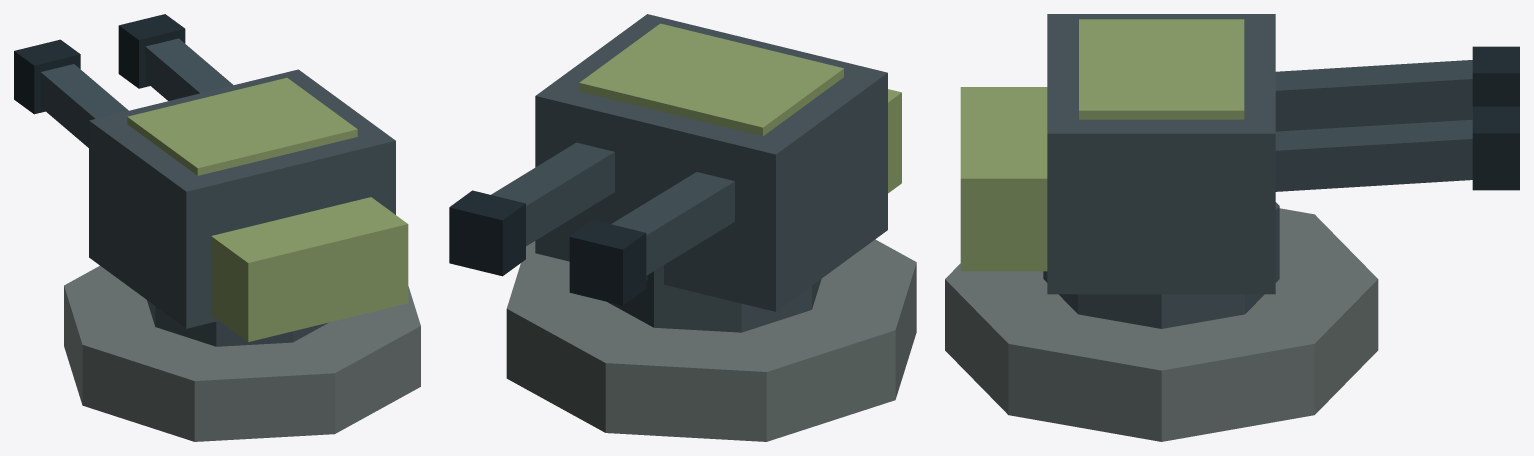
Rendered from cannon-near.glb.
The picture shows the model from 3 angles, left to right: view 1: azimuth 30°, elevation 25°; view 2: azimuth 150°, elevation 25°; view 3: azimuth 270°, elevation 25°; orthographic projection. The views are drawn at different scales.
Visible parts, largest first — view 1: cannon-near; view 2: cannon-near; view 3: cannon-near.
Boxes of the visible parts, x1,y1,x2,y2 form: cannon-near: [14, 14, 420, 441]; cannon-near: [449, 14, 916, 441]; cannon-near: [945, 14, 1519, 441].
Size of the model in its own units: 1.1 by 0.8 by 1.46.
